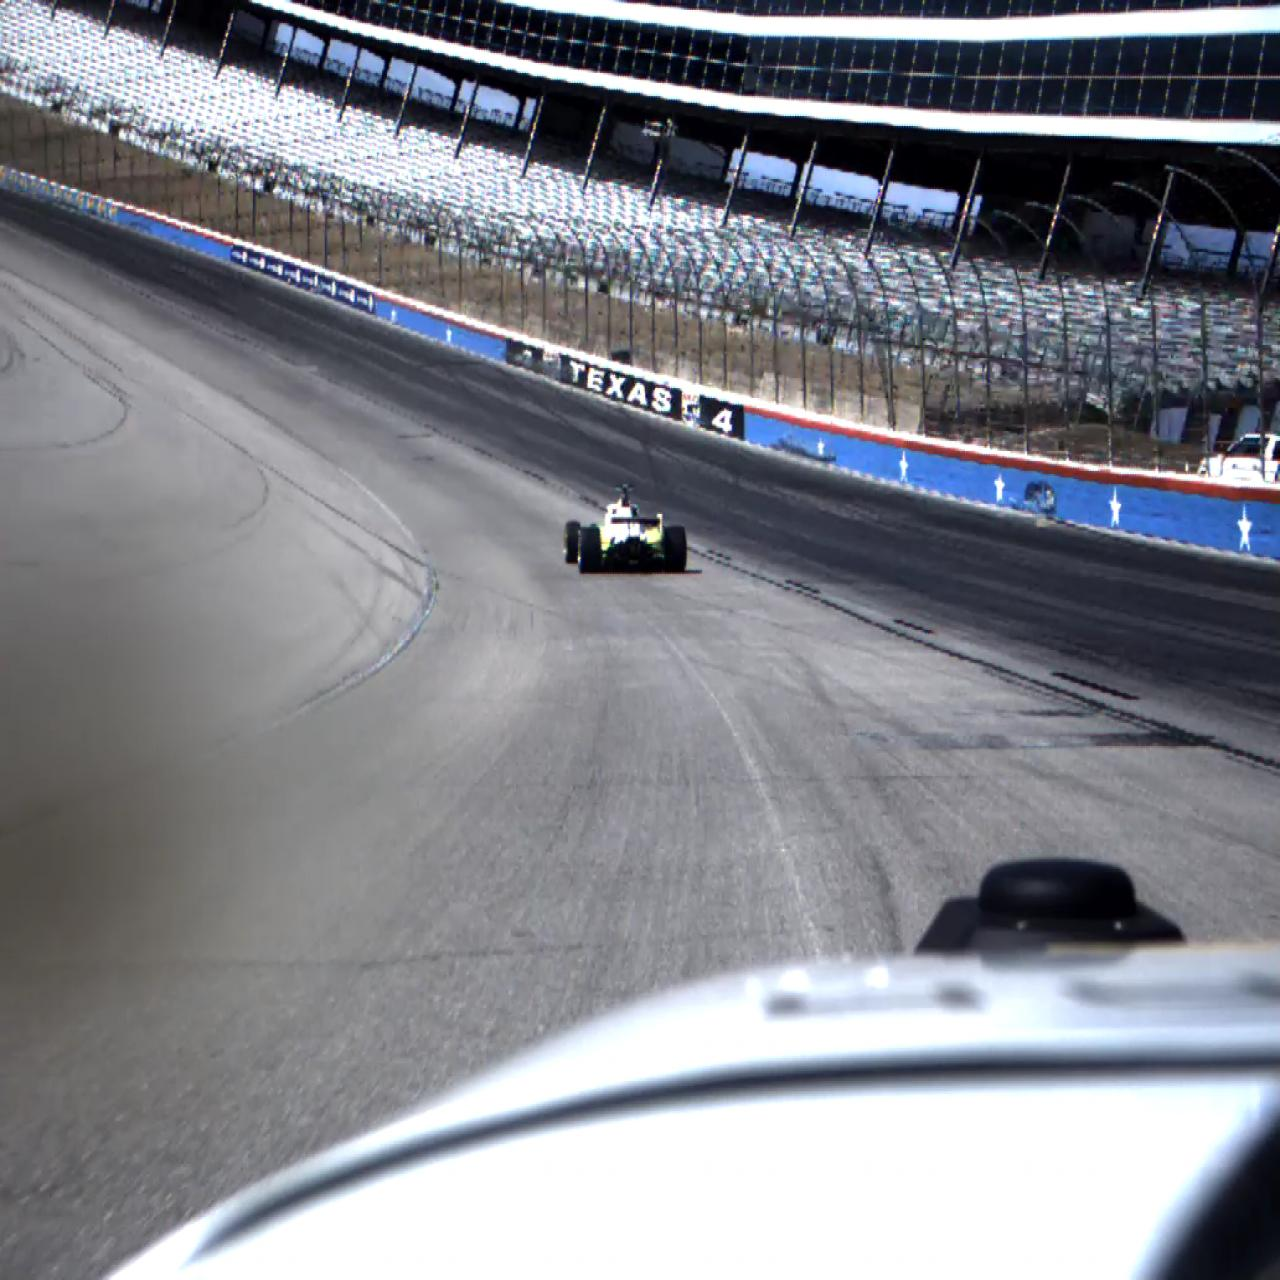AV: (563, 484, 687, 574)
Wheel: (665, 526, 687, 572), (579, 527, 601, 573), (565, 520, 581, 565)
